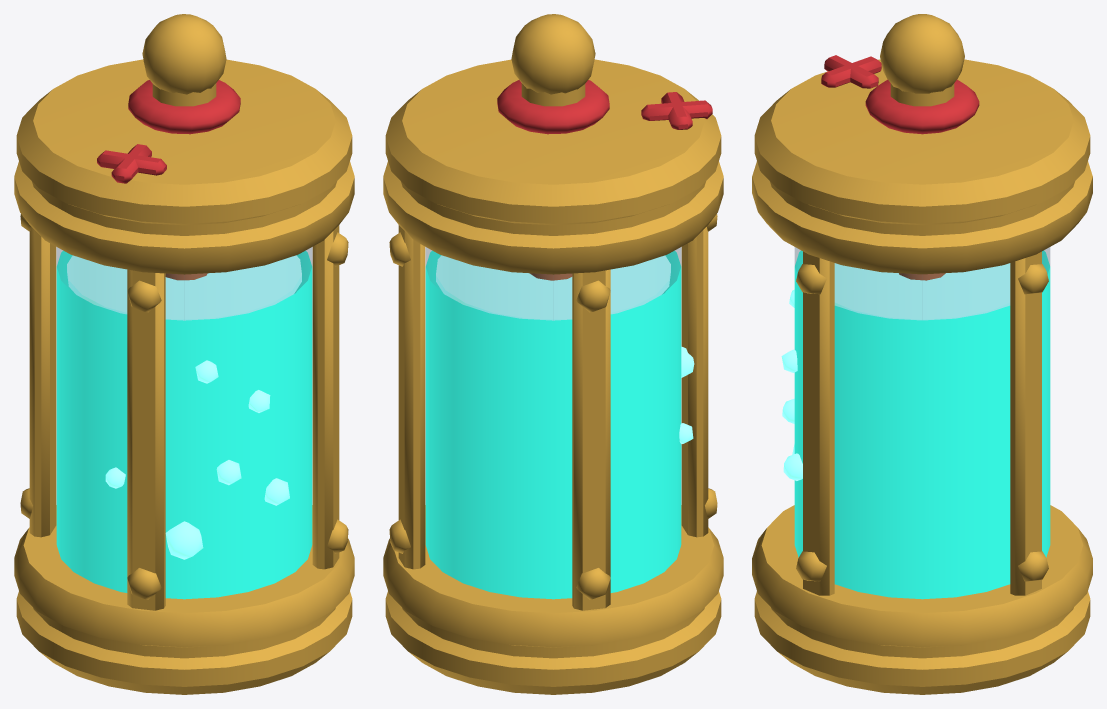
The model's file is item_power_cell.glb.
3 views of the same model, side by side, from view 1: azimuth 30°, elevation 25°; view 2: azimuth 150°, elevation 25°; view 3: azimuth 270°, elevation 25° (orthographic).
Visible parts, largest first — view 1: PowerCell; view 2: PowerCell; view 3: PowerCell.
Part boxes in pixels (x1,y1,x2,y2): PowerCell: [14, 14, 354, 694]; PowerCell: [383, 14, 723, 694]; PowerCell: [752, 14, 1092, 694].
Size of the model in its own units: 0.144 by 0.288 by 0.144.
